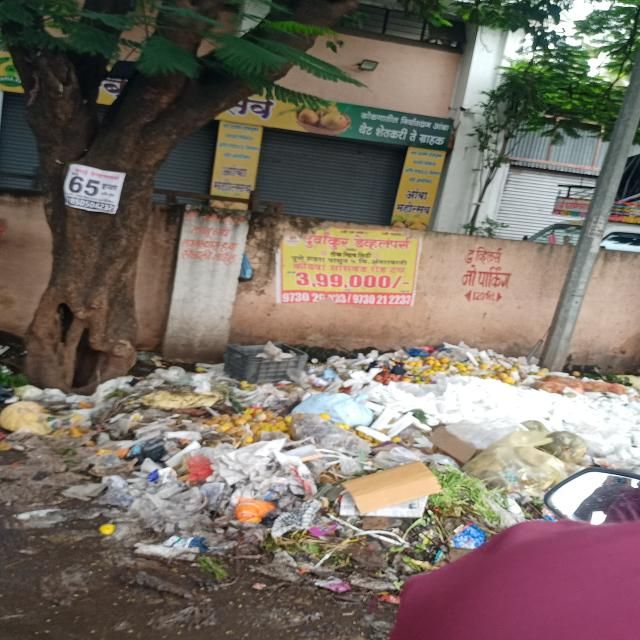garbage: (4, 348, 640, 568)
